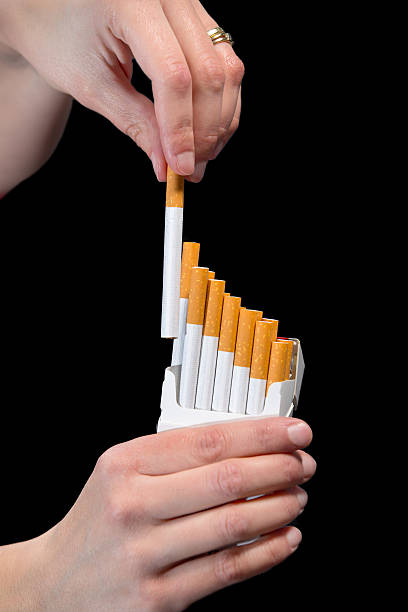cigarette: (154, 337, 306, 435), (157, 159, 185, 340), (177, 265, 210, 410), (194, 277, 228, 410), (170, 241, 202, 367), (210, 294, 242, 412), (229, 308, 258, 413), (244, 319, 275, 414), (264, 340, 289, 408)
